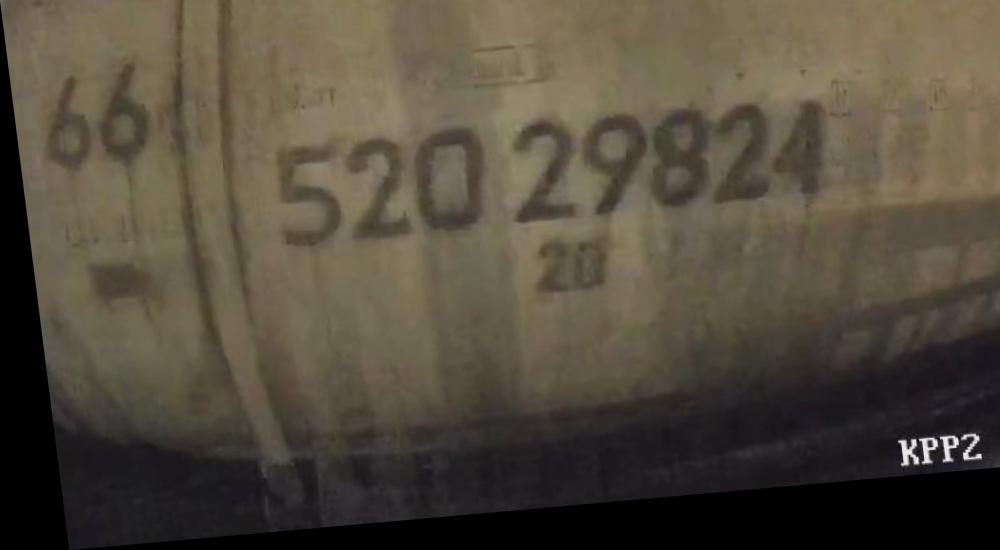Wagon-number: (256, 104, 837, 261)
